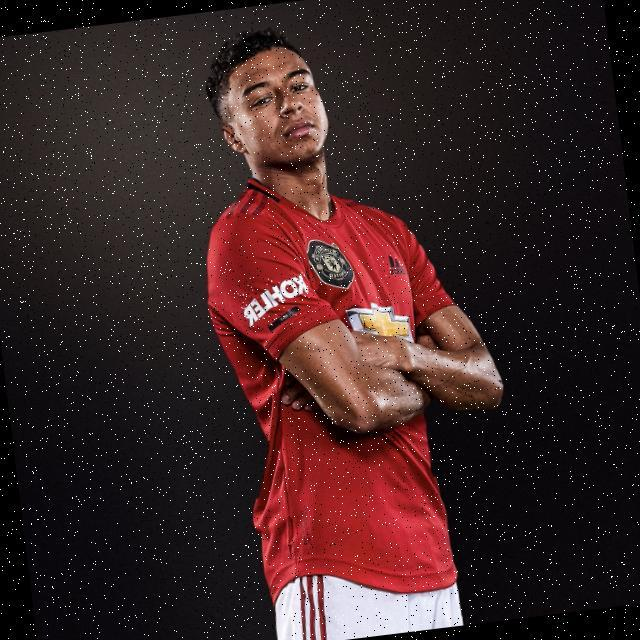Adidas: (382, 251, 409, 278)
Kohler: (236, 270, 313, 332)
